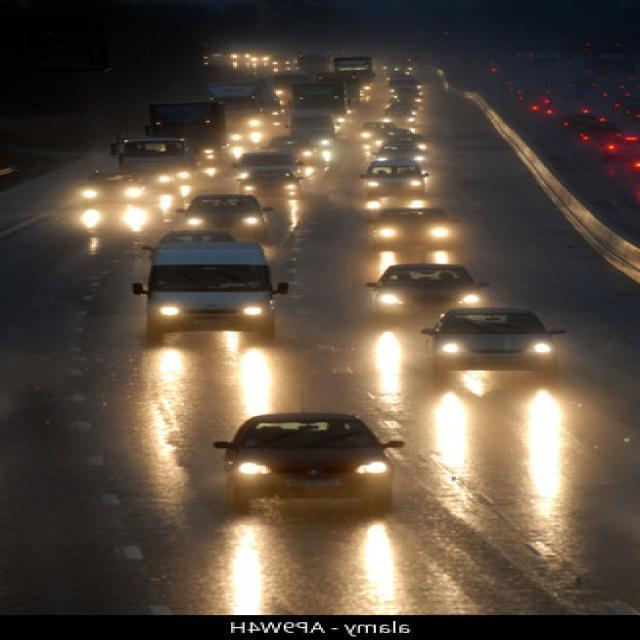headlights: (230, 450, 399, 502), (139, 293, 274, 332), (436, 336, 558, 364), (374, 286, 482, 313), (181, 210, 264, 234), (373, 221, 452, 245), (360, 172, 427, 195)
